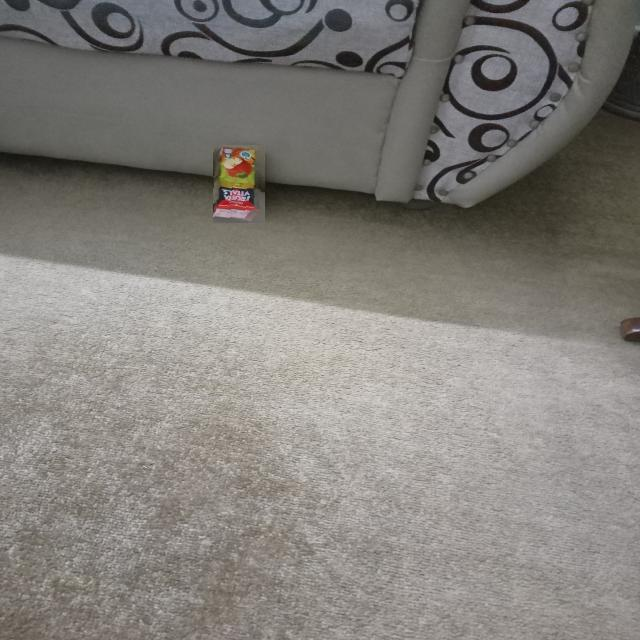Plastic: (213, 145, 265, 223)
